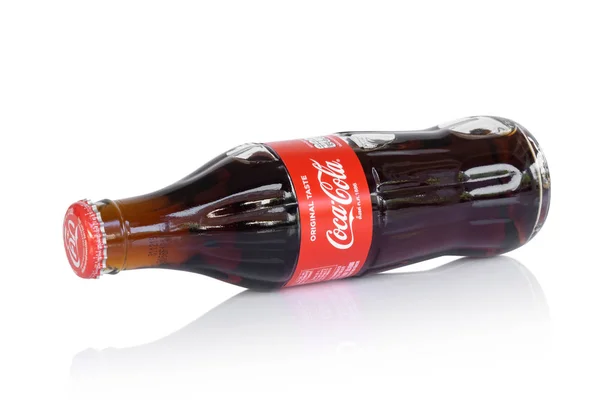glass_bottle: (50, 103, 560, 297)
